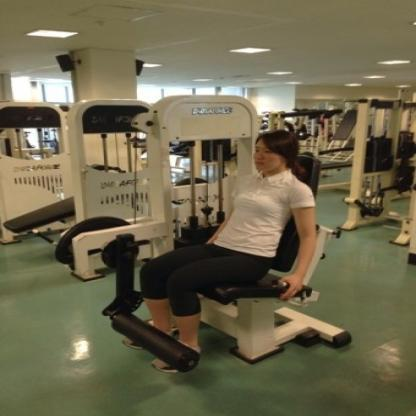leg extension: (82, 84, 361, 387)
